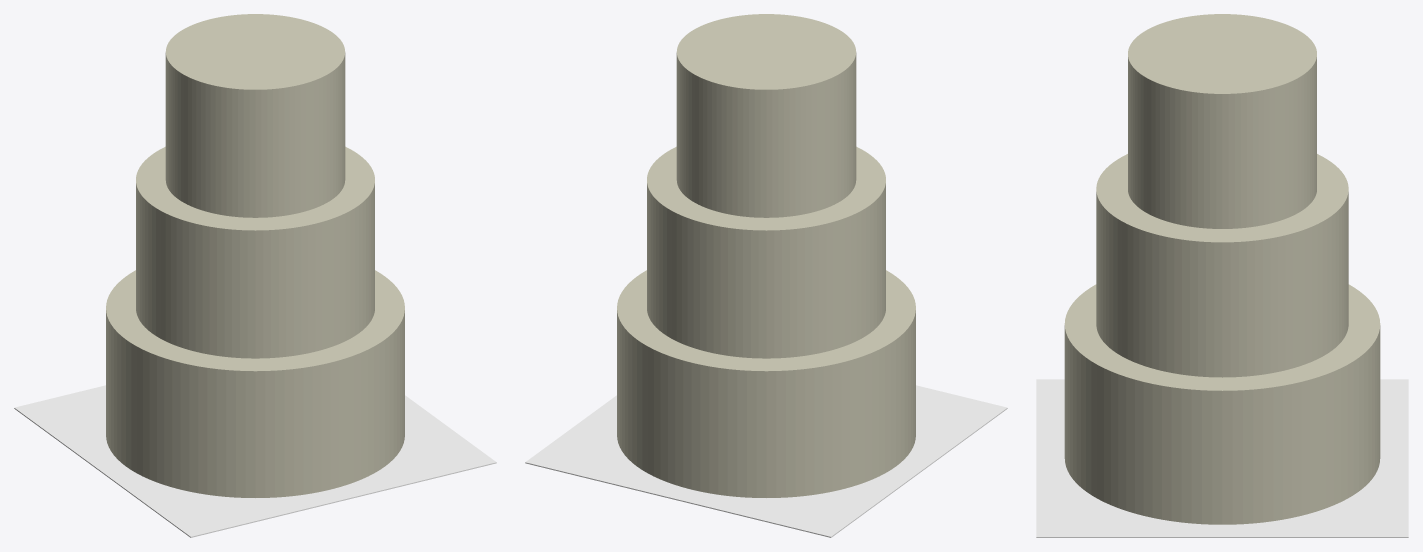
File: cake_tier3_10-8-6_layers3_v26.glb
The picture shows the model from 3 angles, left to right: view 1: azimuth 30°, elevation 25°; view 2: azimuth 150°, elevation 25°; view 3: azimuth 270°, elevation 25°; orthographic projection. The views are drawn at different scales.
Parts seen in each view (by area): view 1: Tier0, Tier1, Tier2, Board; view 2: Tier0, Tier1, Tier2, Board; view 3: Tier0, Tier1, Tier2, Board.
Boxes of the visible parts, x1,y1,x2,y2 form: Tier0: (106,270,404,497); Tier1: (136,146,374,358); Tier2: (165,14,345,217); Board: (14,385,496,537); Tier0: (617,270,915,497); Tier1: (647,146,885,358); Tier2: (676,14,856,217); Board: (525,385,1007,537); Tier0: (1064,284,1380,524); Tier1: (1096,154,1348,377); Tier2: (1128,14,1316,228); Board: (1036,379,1408,537).
Size of the model in its own units: 0.3 by 0.36 by 0.3.
